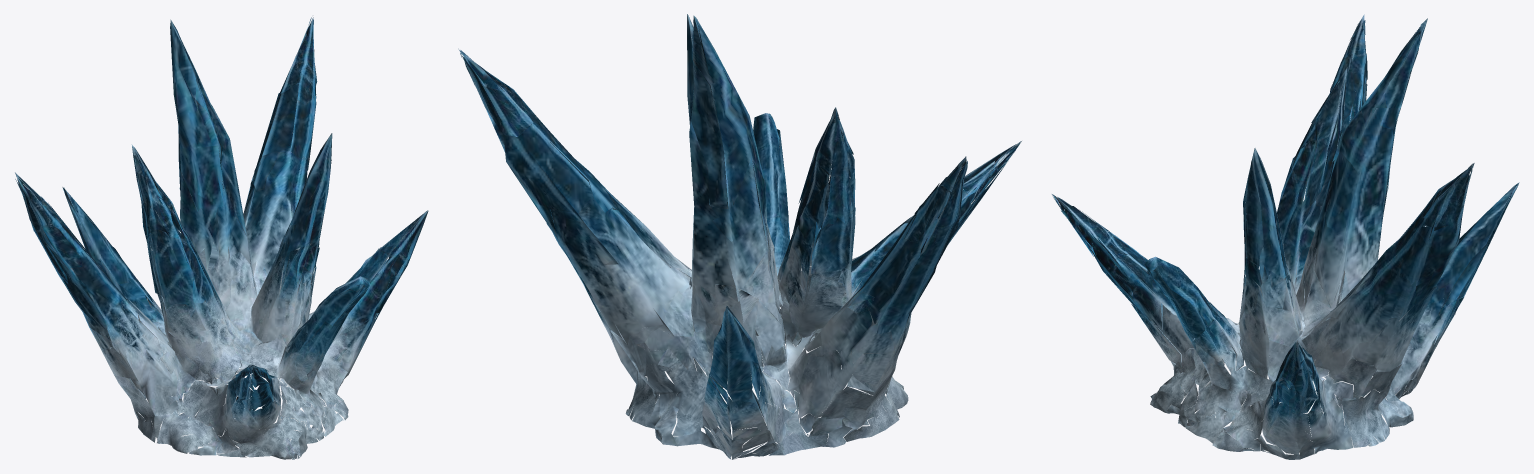
Rendered from crystal_pieces.glb.
The picture shows the model from 3 angles, left to right: view 1: azimuth 30°, elevation 25°; view 2: azimuth 150°, elevation 25°; view 3: azimuth 270°, elevation 25°; orthographic projection. The views are drawn at different scales.
Parts seen in each view (by area): view 1: chunk_13, chunk_12, chunk_10, chunk_0, chunk_6, chunk_2, chunk_8, chunk_1, chunk_11, chunk_5; view 2: chunk_1, chunk_13, chunk_12, chunk_0, chunk_8, chunk_10, chunk_11, chunk_2; view 3: chunk_1, chunk_10, chunk_13, chunk_6, chunk_0, chunk_2, chunk_12, chunk_11, chunk_8, chunk_5.
Part boxes in pixels (box(x1,y1,x2,y2)): chunk_13: box(129, 193, 298, 454); chunk_12: box(22, 152, 188, 396); chunk_10: box(270, 203, 428, 368); chunk_0: box(170, 17, 317, 190); chunk_6: box(200, 350, 351, 459); chunk_2: box(194, 114, 332, 224); chunk_8: box(62, 146, 197, 298); chunk_1: box(140, 171, 366, 380); chunk_11: box(198, 364, 273, 455); chunk_5: box(293, 147, 331, 226); chunk_1: box(534, 203, 770, 459); chunk_13: box(676, 164, 908, 455); chunk_12: box(759, 112, 966, 408); chunk_0: box(458, 15, 759, 212); chunk_8: box(695, 108, 837, 402); chunk_10: box(553, 113, 790, 322); chunk_11: box(855, 141, 1021, 389); chunk_2: box(515, 14, 760, 218); chunk_1: box(1269, 271, 1459, 459); chunk_10: box(1145, 221, 1356, 434); chunk_13: box(1205, 183, 1382, 400); chunk_6: box(1146, 309, 1276, 455); chunk_0: box(1337, 18, 1474, 271); chunk_2: box(1251, 148, 1440, 294); chunk_12: box(1281, 35, 1367, 322); chunk_11: box(1052, 194, 1173, 336); chunk_8: box(1342, 69, 1519, 306); chunk_5: box(1243, 161, 1265, 227).
Bounding box in the file's own units: 1.05 × 0.91 × 1.
1 material, 1 textured.
